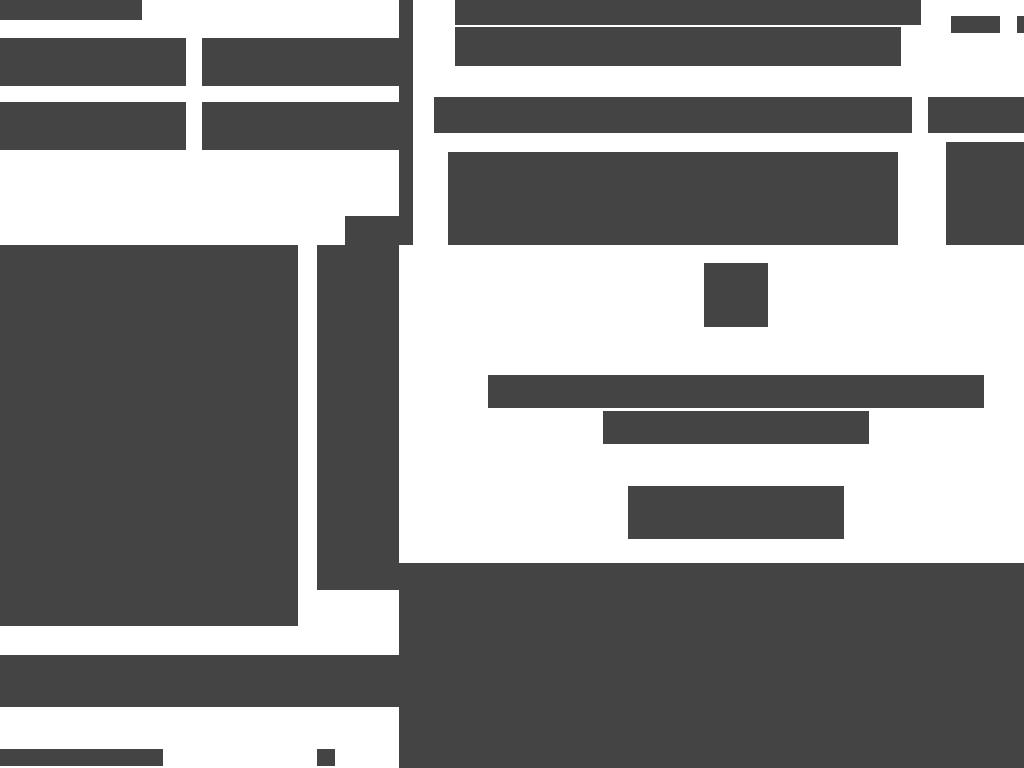button: (0, 245, 298, 626), (317, 245, 399, 590), (628, 486, 844, 539), (202, 38, 399, 86), (202, 102, 399, 150), (0, 38, 186, 86), (0, 102, 186, 150)
heading: (0, 655, 399, 707), (488, 375, 984, 408), (603, 411, 869, 444)
image: (399, 563, 1024, 768), (448, 152, 898, 245), (704, 263, 768, 327), (0, 0, 142, 20)
link: (455, 27, 901, 66), (317, 421, 399, 541), (0, 749, 163, 766), (618, 27, 698, 44), (544, 27, 615, 44), (951, 16, 1000, 33), (317, 749, 335, 766)
text: (0, 245, 298, 626), (434, 97, 912, 133), (455, 0, 921, 25), (928, 97, 1024, 133), (646, 503, 826, 522), (698, 27, 829, 44), (217, 53, 309, 73), (455, 27, 546, 44), (0, 117, 71, 137), (317, 570, 399, 587), (217, 117, 266, 137), (0, 53, 19, 73)
